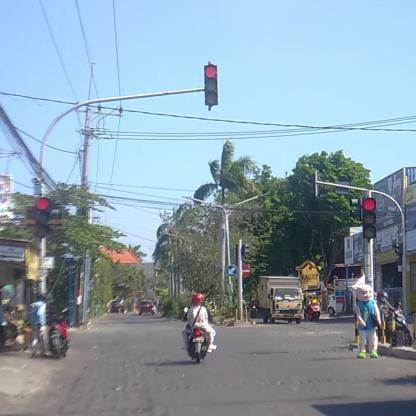red: (204, 63, 220, 107), (361, 197, 377, 240), (33, 196, 49, 238)
